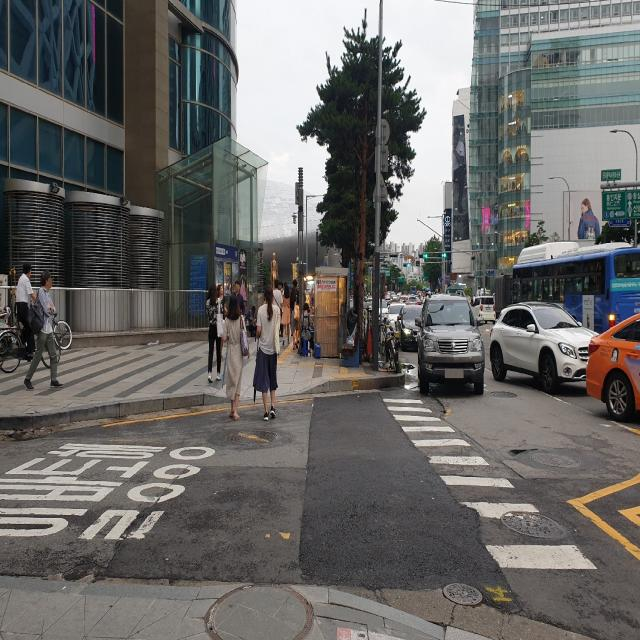횡단보도: (382, 398, 600, 574)
